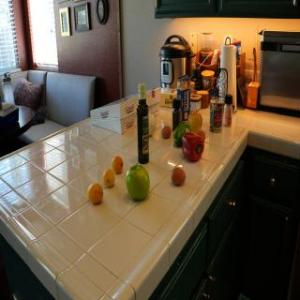bell_pepper: (182, 130, 202, 160), (174, 120, 190, 142)
egg: (171, 164, 187, 186), (160, 124, 172, 140), (198, 130, 206, 142)
onion: (142, 112, 156, 136)
